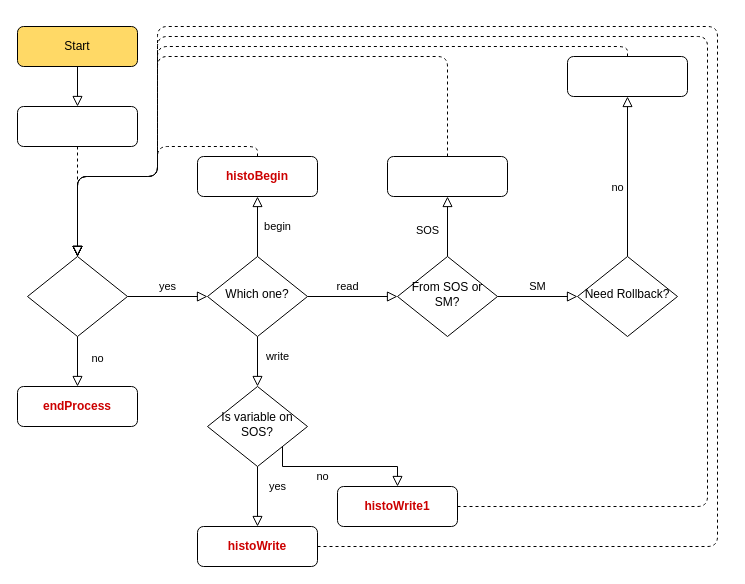
Image size: 745x584. Some labels were removed from this diagram. The shapes that lost their labels are listed below. From the top down, each one's box as (x1, y1, x2, y2) in pixels, then its label:
(566, 56, 688, 96): ReadSM
(16, 106, 138, 146): histoBegin1
(386, 156, 508, 196): histoReadSOS
(26, 256, 128, 336): Has TM operations?
